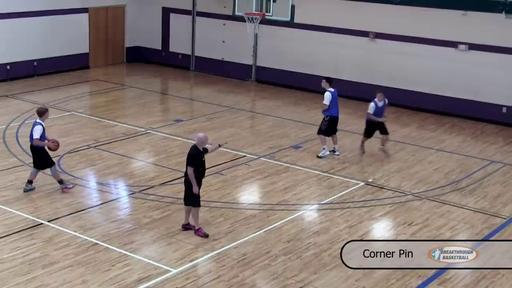ball: (47, 139, 60, 151)
human: (180, 132, 232, 239), (24, 106, 76, 194), (359, 90, 391, 156), (316, 77, 340, 158)
rim: (241, 12, 264, 34)
